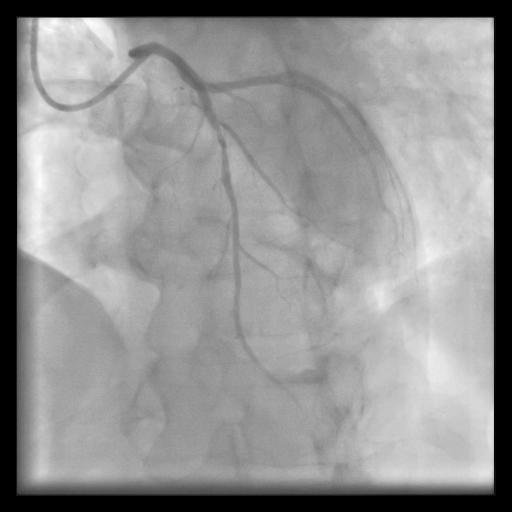Stenosis: (211, 121, 226, 171)
